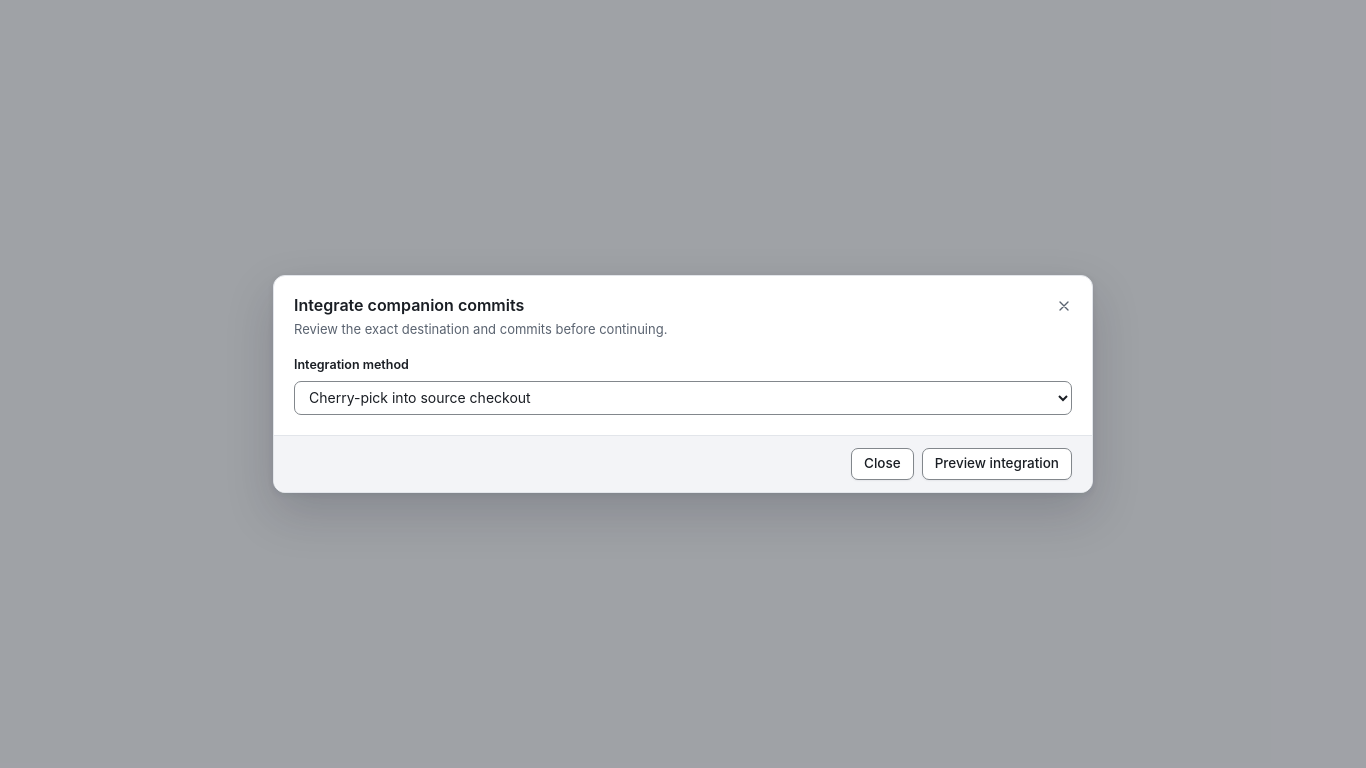
blocks cherry-pick when hidden tracked paths could conceal local edits
Step 1. Click the button "Preview integration" → (997, 464), box 922,448 -> 1072,480
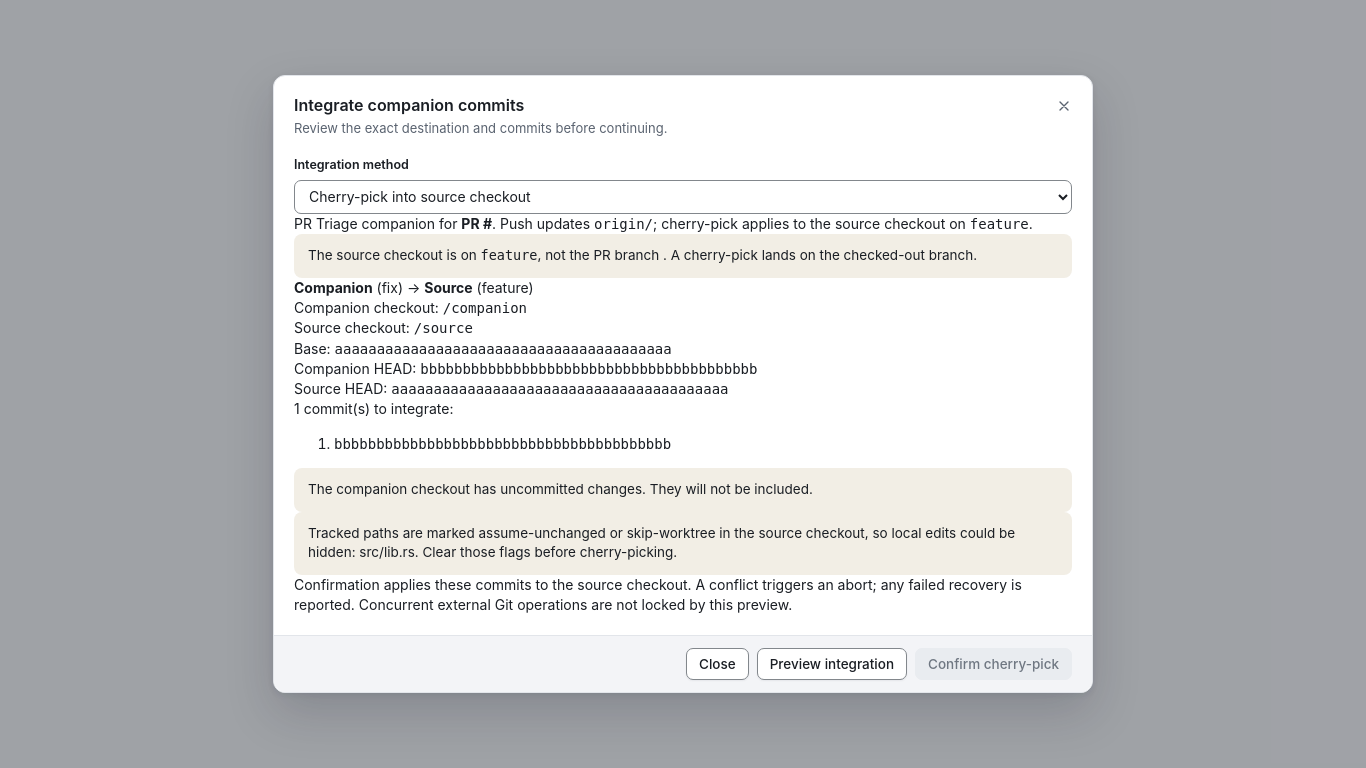
Check: the button "Confirm cherry-pick" is disabled, box 915,648 -> 1072,680
